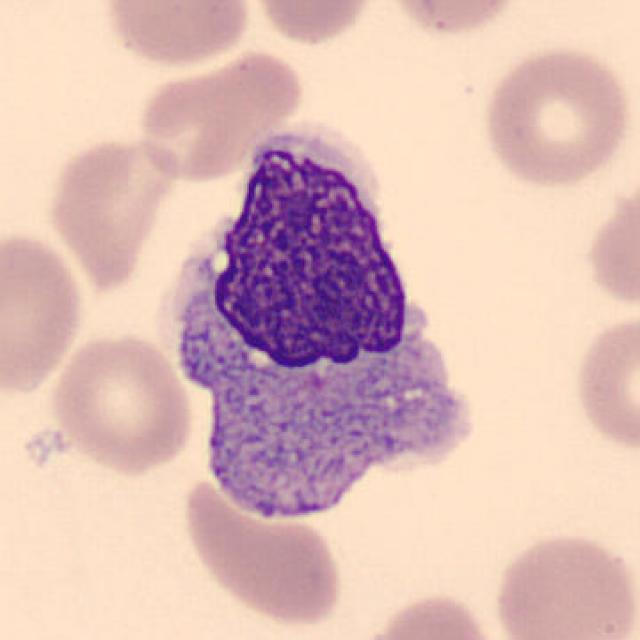Monocyte: (155, 113, 485, 539)
RBC: (176, 471, 348, 631), (476, 42, 634, 192), (134, 46, 308, 182), (41, 133, 183, 294), (46, 330, 196, 476), (489, 527, 638, 640), (0, 228, 89, 400), (102, 0, 255, 71), (567, 308, 638, 458), (579, 172, 640, 319), (352, 589, 508, 640), (245, 0, 382, 48), (381, 0, 526, 39)
